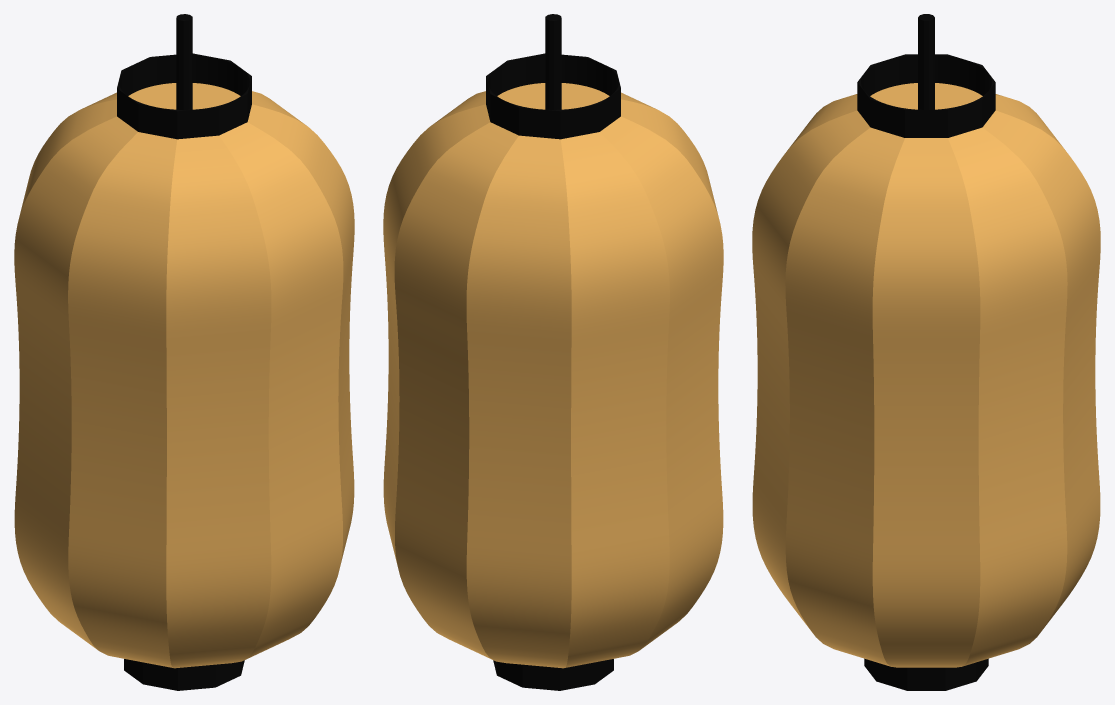
3 renders of one model, left to right at view 1: azimuth 30°, elevation 25°; view 2: azimuth 150°, elevation 25°; view 3: azimuth 270°, elevation 25°, orthographic.
Visible parts, largest first — view 1: barrel; view 2: barrel; view 3: barrel.
Part boxes in pixels (x1,y1,x2,y2): barrel: (14,14,354,690); barrel: (383,14,723,690); barrel: (752,14,1100,690).
Size of the model in its own units: 0.139 by 0.3 by 0.1461.
